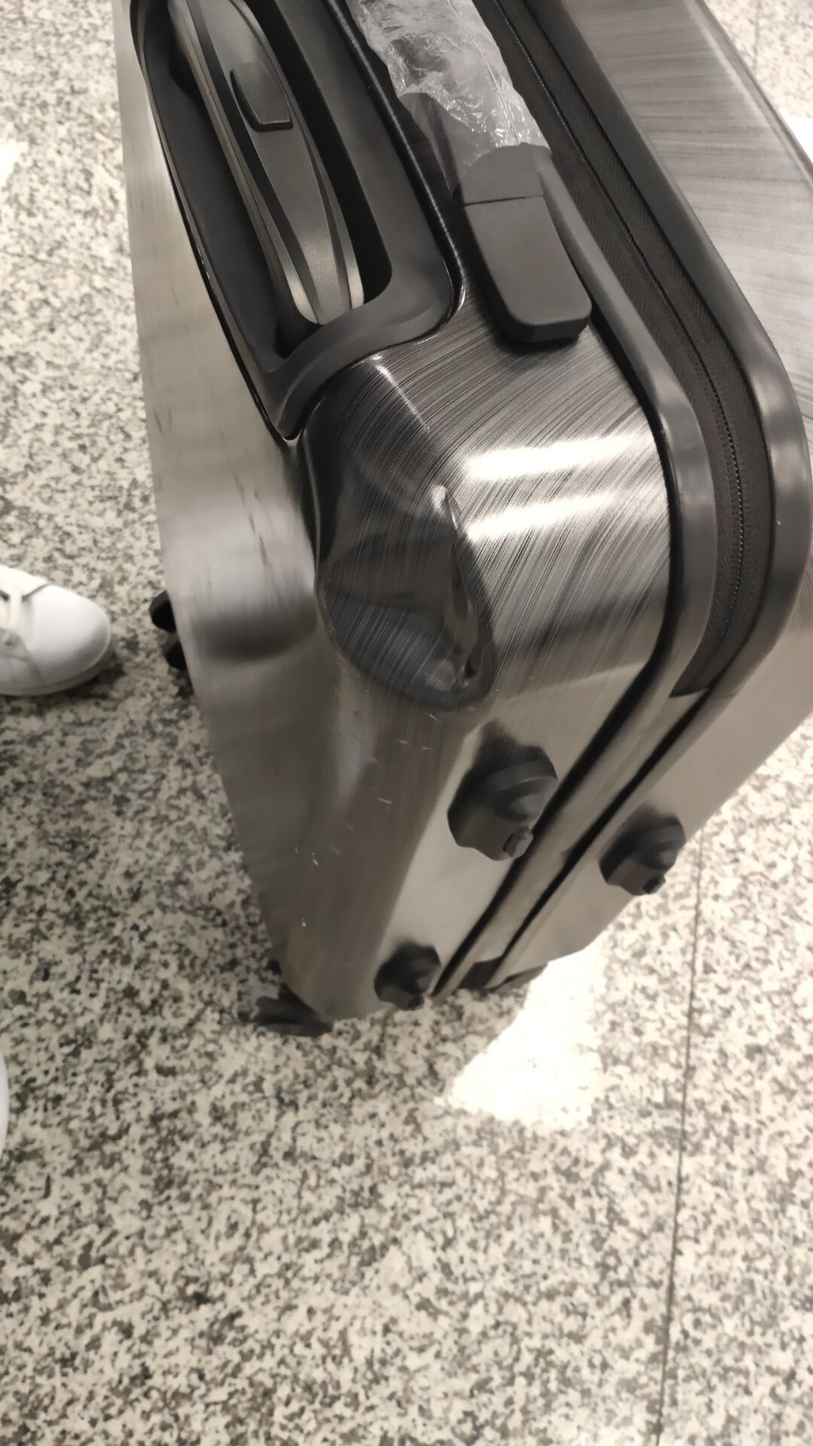rupture: (319, 522, 498, 705)
